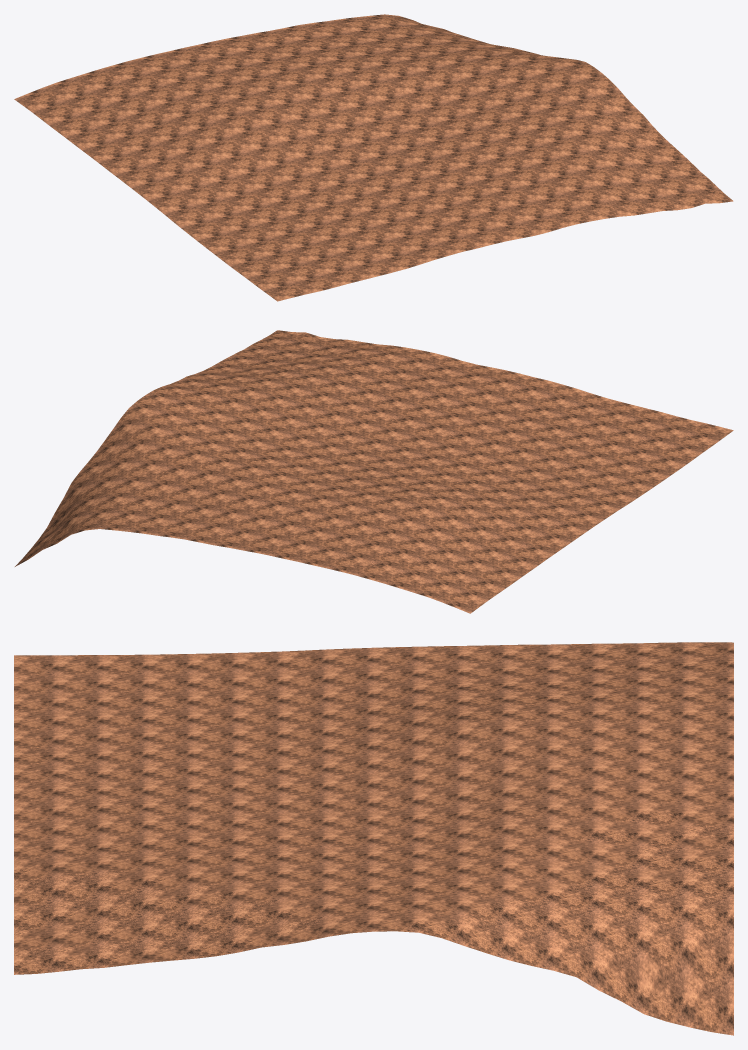
The model's file is terrain_00_17.dae.
The picture shows the model from 3 angles, top to bottom: view 1: azimuth 30°, elevation 25°; view 2: azimuth 150°, elevation 25°; view 3: azimuth 270°, elevation 25°; orthographic projection. The views are drawn at different scales.
Visible parts, largest first — view 1: terrain_00_17-node; view 2: terrain_00_17-node; view 3: terrain_00_17-node.
Boxes of the visible parts, x1,y1,x2,y2 form: terrain_00_17-node: (14, 14, 733, 301); terrain_00_17-node: (15, 330, 733, 613); terrain_00_17-node: (14, 642, 733, 1035).
Size of the model in its own units: 128 by 128 by 20.98.
Materials: 1 (1 with a texture image).
